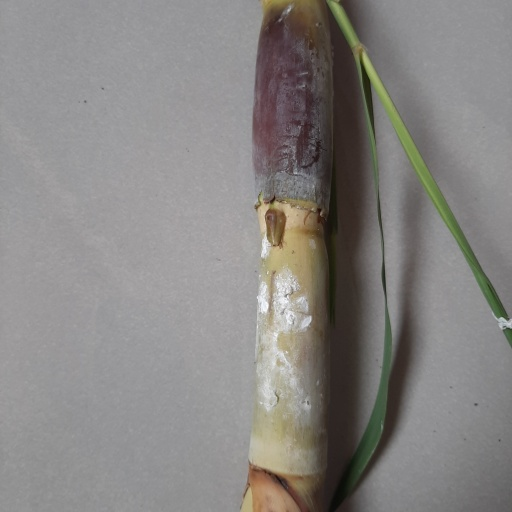Bud: (265, 208, 285, 249)
